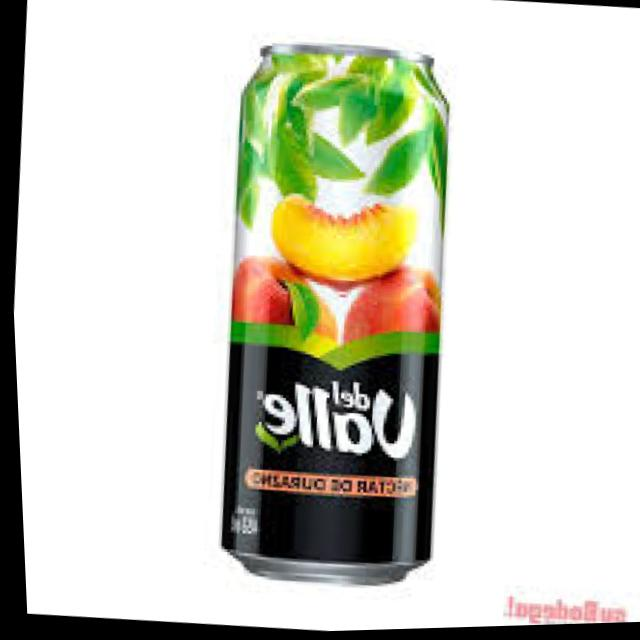Lata: (184, 27, 480, 597)
